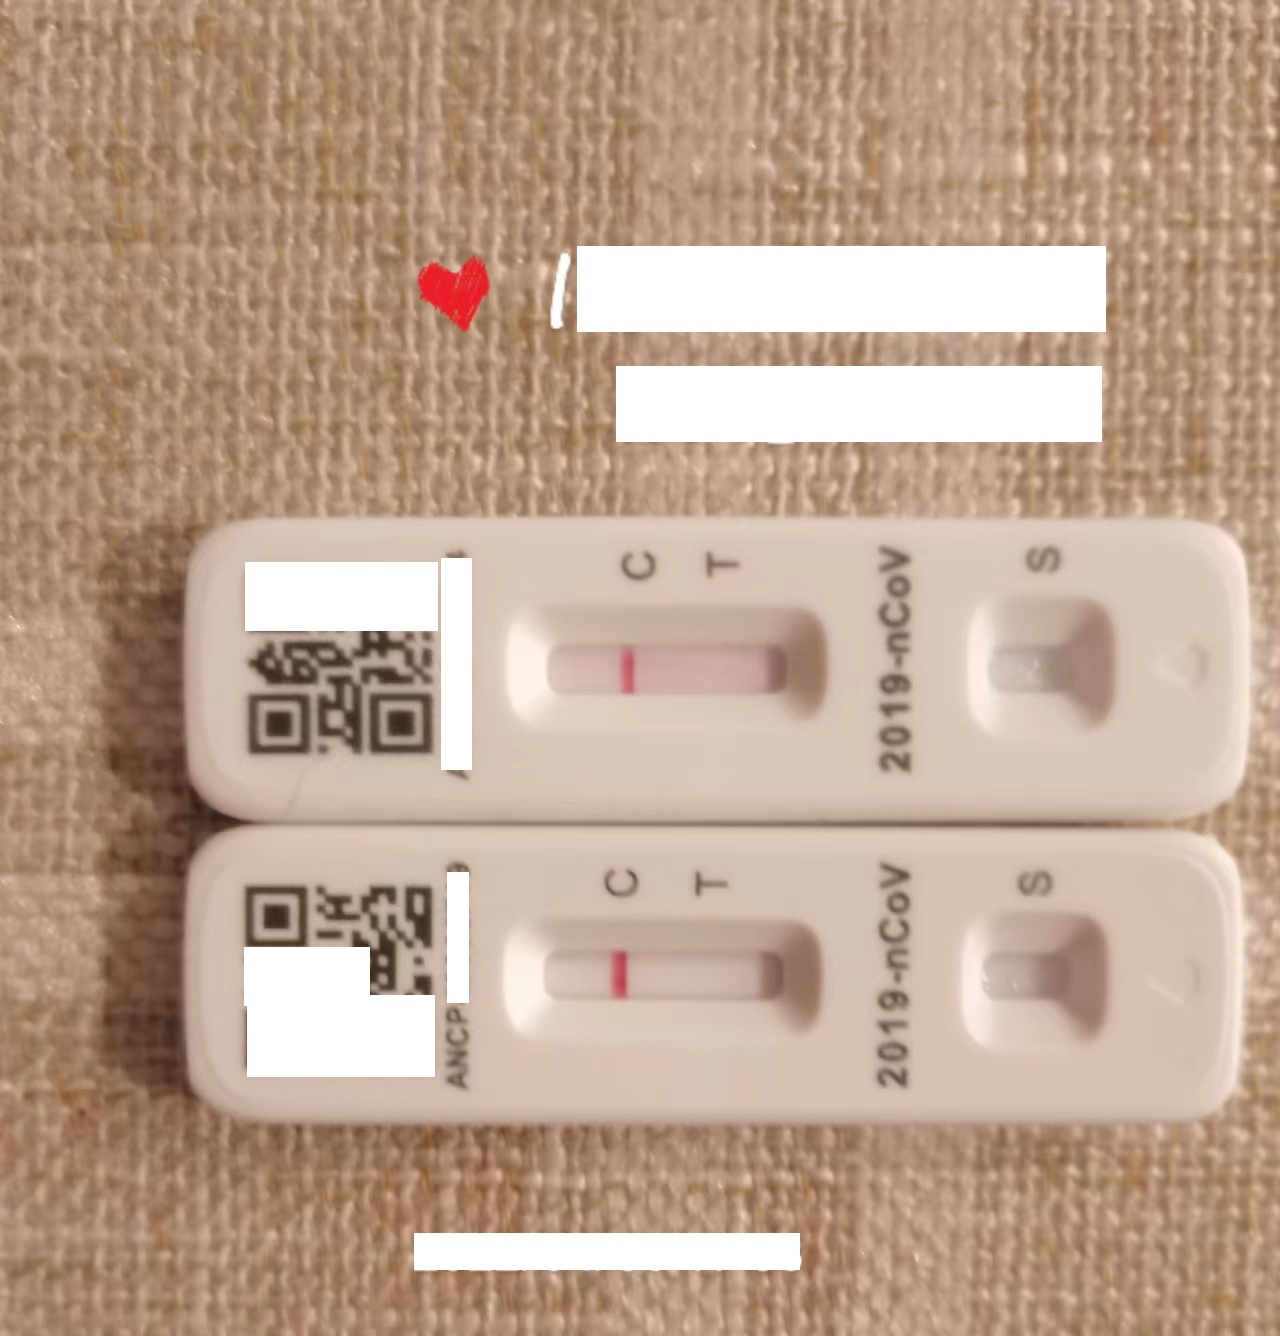negative: (502, 600, 835, 744), (501, 916, 825, 1040)
